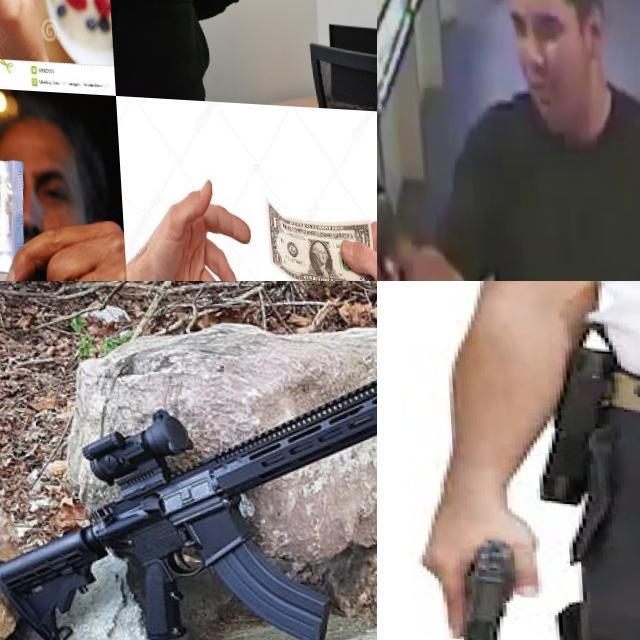gun-knife-thesis - v11 Yolov5 augmented: (0, 286, 377, 640), (404, 507, 547, 640), (377, 0, 457, 106)
